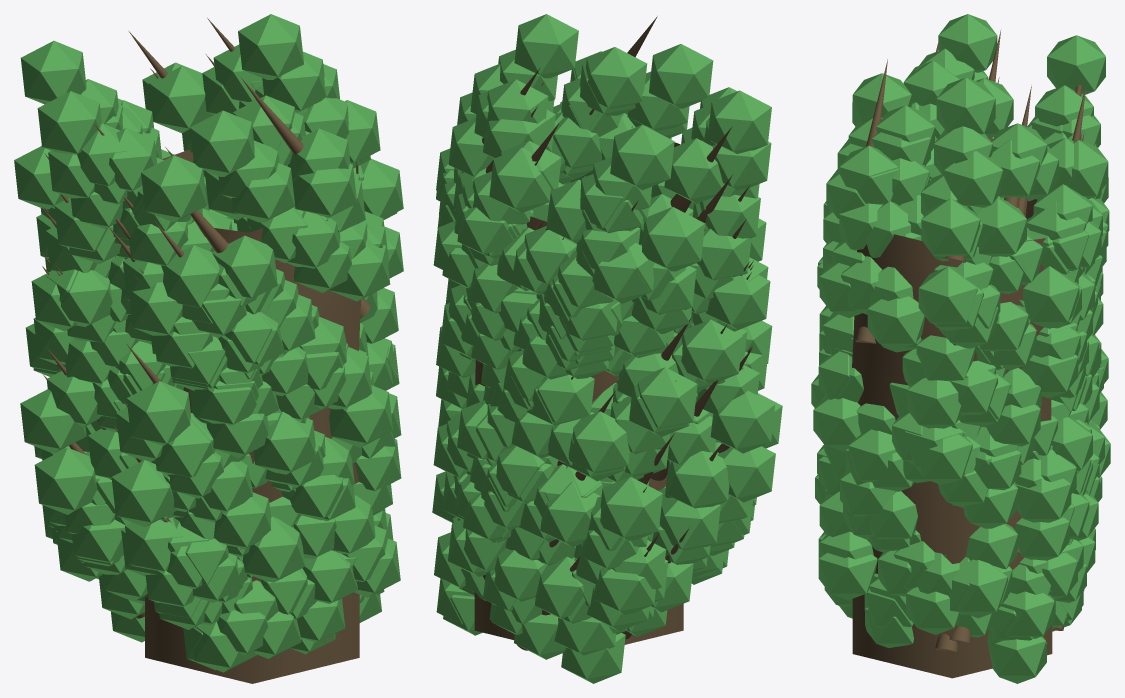
Rendered from tree_var_4158.glb.
3 views of the same model, side by side, from view 1: azimuth 30°, elevation 25°; view 2: azimuth 150°, elevation 25°; view 3: azimuth 270°, elevation 25° (orthographic). The views are drawn at different scales.
Parts seen in each view (by area): view 1: tree_var_4158; view 2: tree_var_4158; view 3: tree_var_4158.
Part boxes in pixels (<box>): tree_var_4158: <box>14,14,403,683</box>; tree_var_4158: <box>432,14,782,683</box>; tree_var_4158: <box>811,14,1110,683</box>.
Size of the model in its own units: 3.33 by 5.67 by 2.59.
